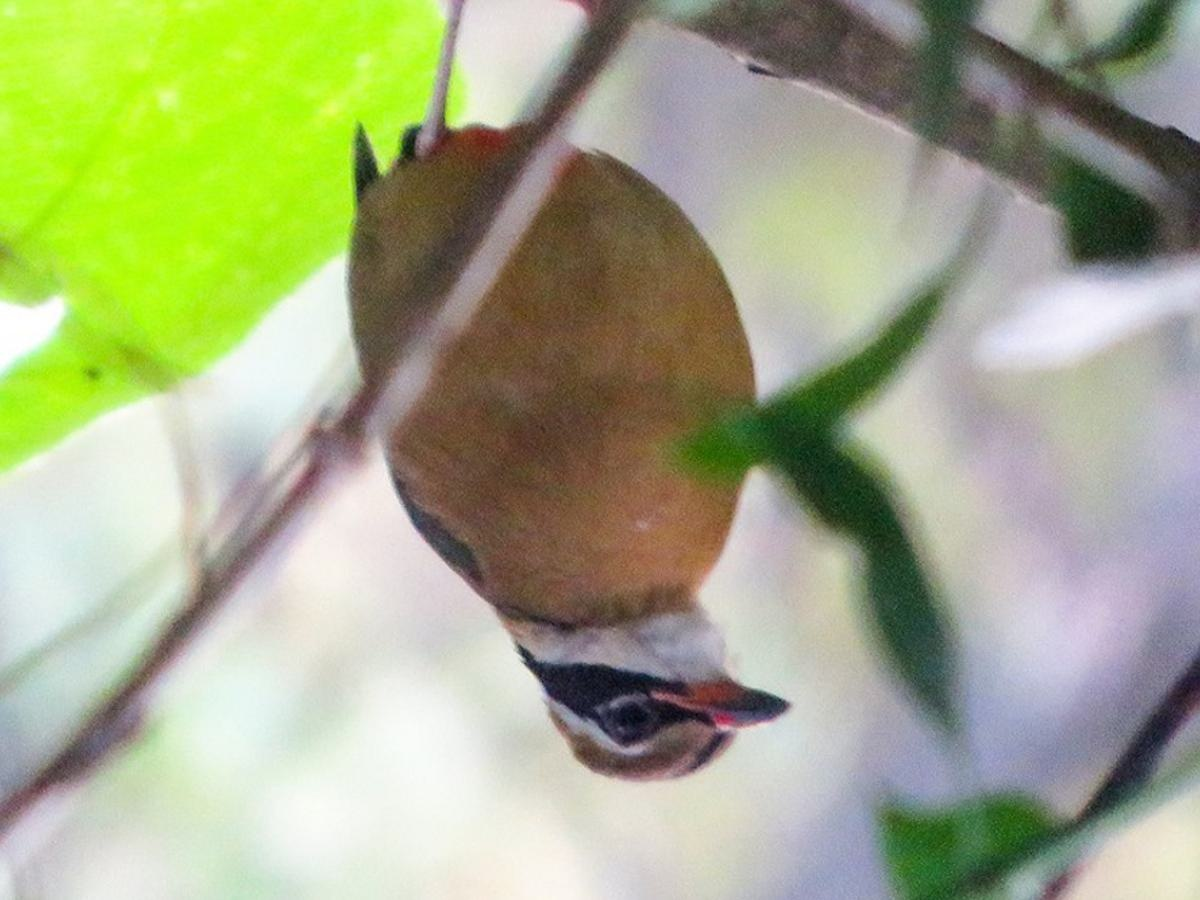pitta: (370, 94, 846, 814)
